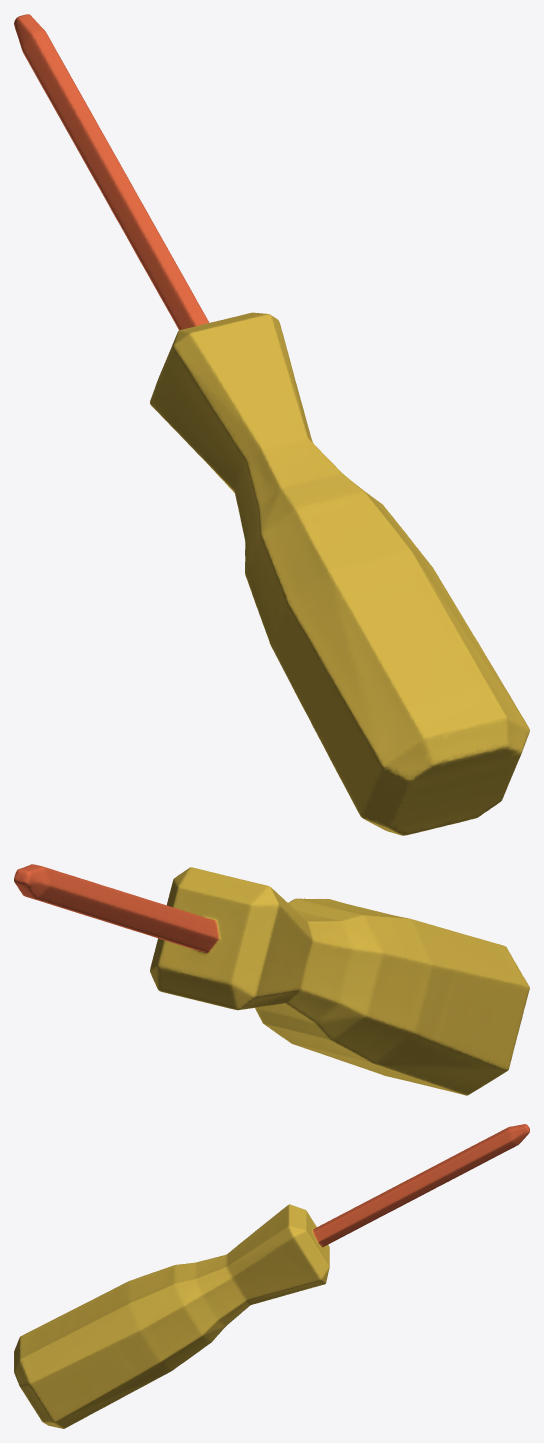
The model's file is screwdriver.glb.
3 views of the same model, one above another, from view 1: azimuth 30°, elevation 25°; view 2: azimuth 150°, elevation 25°; view 3: azimuth 270°, elevation 25° (orthographic). The views are drawn at different scales.
Parts seen in each view (by area): view 1: world; view 2: world; view 3: world.
Boxes of the visible parts, <box> form: world: <box>14,14,529,835</box>; world: <box>14,864,529,1095</box>; world: <box>14,1124,529,1428</box>.
Size of the model in its own units: 0.1907 by 0.6273 by 1.
Materials: 1 (1 with a texture image).
